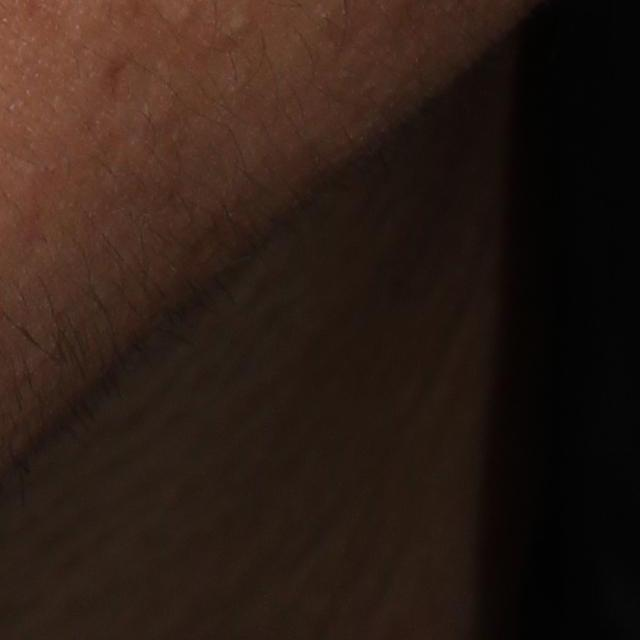comedo: (228, 7, 248, 34)
